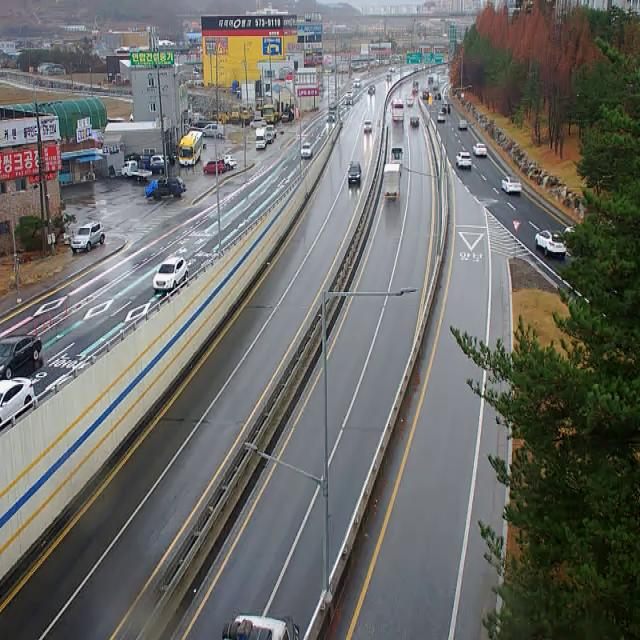Bus: (179, 130, 203, 166), (391, 98, 404, 123)
Car: (0, 334, 42, 380), (0, 378, 34, 424), (71, 220, 105, 254), (153, 257, 188, 290), (535, 230, 566, 258), (348, 161, 362, 185), (198, 124, 223, 137), (502, 176, 522, 192), (203, 161, 224, 174), (456, 151, 472, 168), (223, 155, 237, 170), (150, 155, 170, 165), (473, 143, 487, 157), (301, 142, 313, 158), (250, 118, 267, 128), (392, 147, 404, 159), (266, 125, 277, 138), (458, 118, 468, 131), (364, 120, 373, 133), (410, 116, 419, 128), (327, 111, 336, 123), (282, 112, 292, 122), (437, 111, 445, 123), (442, 104, 451, 114), (266, 133, 274, 144), (368, 84, 376, 94), (353, 78, 361, 87), (406, 97, 414, 106), (346, 90, 354, 98), (345, 97, 353, 105), (422, 90, 429, 99), (435, 92, 441, 100)
Truck: (151, 177, 187, 200), (384, 164, 402, 199), (122, 161, 152, 181), (138, 155, 164, 173), (262, 105, 278, 123), (256, 127, 266, 150)
